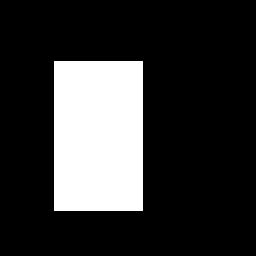person: (54, 61, 142, 210)
